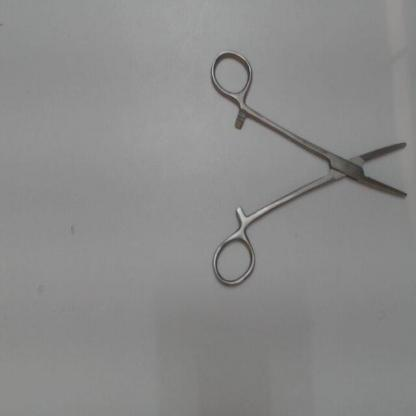Mayo Needle Holder: (205, 42, 413, 294)
